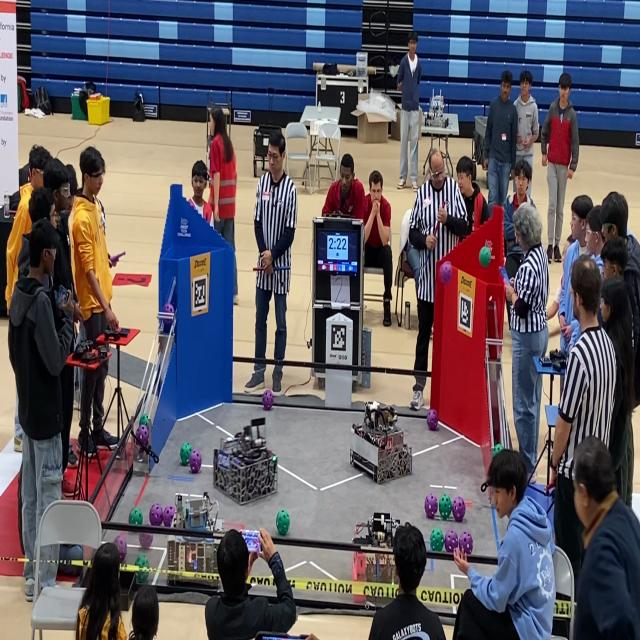artifact_green: (276, 510, 290, 536), (439, 494, 452, 520), (430, 528, 444, 551), (180, 443, 192, 465), (479, 247, 491, 267), (129, 508, 143, 525), (135, 554, 149, 569), (492, 444, 503, 458), (139, 414, 149, 426), (272, 455, 277, 463)
artifact_purple: (114, 535, 127, 562), (425, 494, 438, 519), (459, 532, 473, 555), (453, 496, 465, 522), (439, 261, 452, 284), (150, 504, 163, 526), (445, 530, 458, 552), (189, 450, 201, 473), (136, 425, 149, 446), (163, 505, 175, 527), (139, 533, 153, 550), (427, 409, 438, 430), (263, 390, 273, 410), (163, 303, 174, 314)
